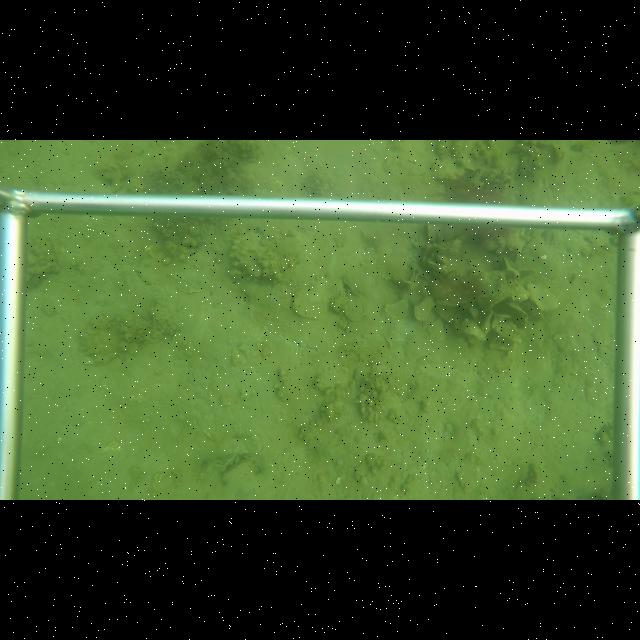Oyster-Closed: (501, 302, 529, 329), (338, 296, 364, 324), (413, 295, 434, 323)
Oyster-Open: (220, 459, 254, 485), (422, 260, 448, 275)
